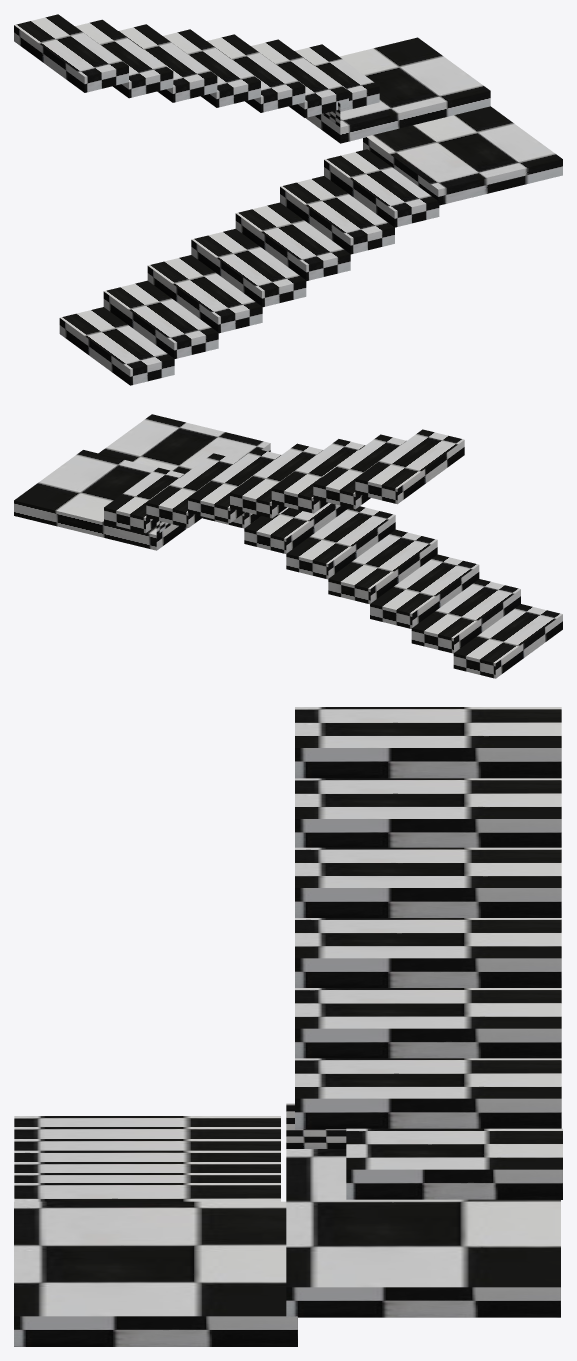
The model's file is escalera.obj.
The picture shows the model from 3 angles, top to bottom: view 1: azimuth 30°, elevation 25°; view 2: azimuth 150°, elevation 25°; view 3: azimuth 270°, elevation 25°; orthographic projection. The views are drawn at different scales.
Parts seen in each view (by area): view 1: polySurface29; view 2: polySurface29; view 3: polySurface29.
Part boxes in pixels (x1,y1,x2,y2): polySurface29: (14,14,562,385); polySurface29: (14,414,562,678); polySurface29: (14,707,562,1346).
Bounding box in the file's own units: 1.72 × 0.9417 × 1.01.
1 material, 1 textured.
